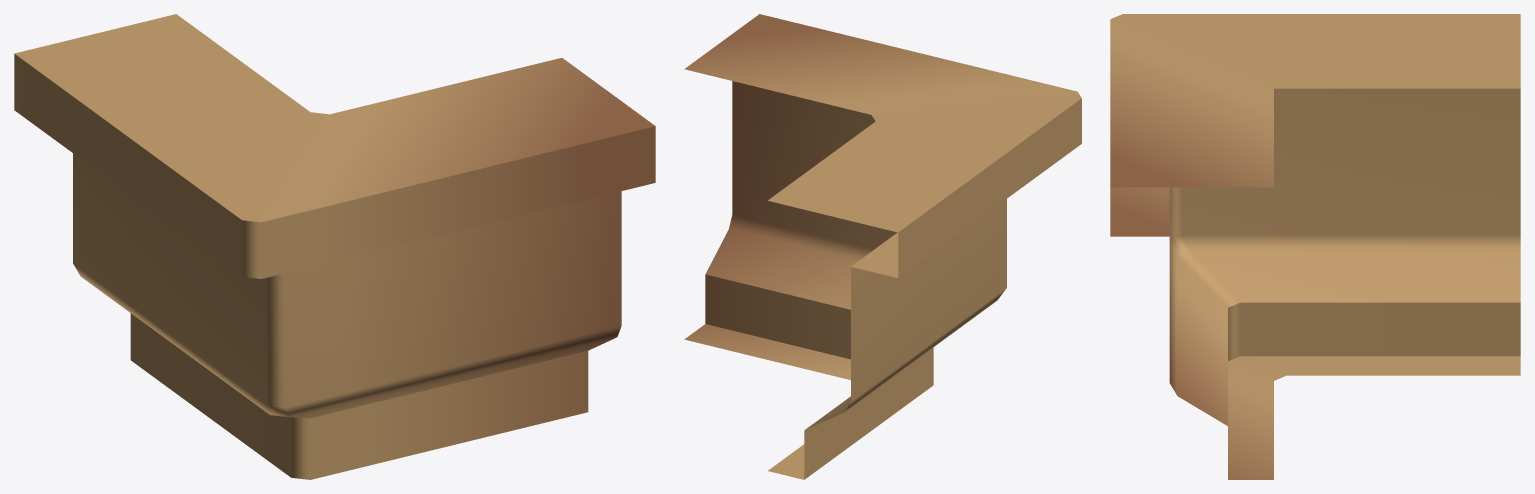
The model's file is DBK_Trim_A_Corner.fbx.
The picture shows the model from 3 angles, left to right: view 1: azimuth 30°, elevation 25°; view 2: azimuth 150°, elevation 25°; view 3: azimuth 270°, elevation 25°; orthographic projection. The views are drawn at different scales.
Parts seen in each view (by area): view 1: DBK_Trim_A_Corner; view 2: DBK_Trim_A_Corner; view 3: DBK_Trim_A_Corner.
Part boxes in pixels (bbox=[...]): DBK_Trim_A_Corner: bbox=[14, 14, 655, 479]; DBK_Trim_A_Corner: bbox=[684, 14, 1081, 479]; DBK_Trim_A_Corner: bbox=[1110, 14, 1520, 479].
Bounding box in the file's own units: 33.26 × 26.2 × 33.26.
